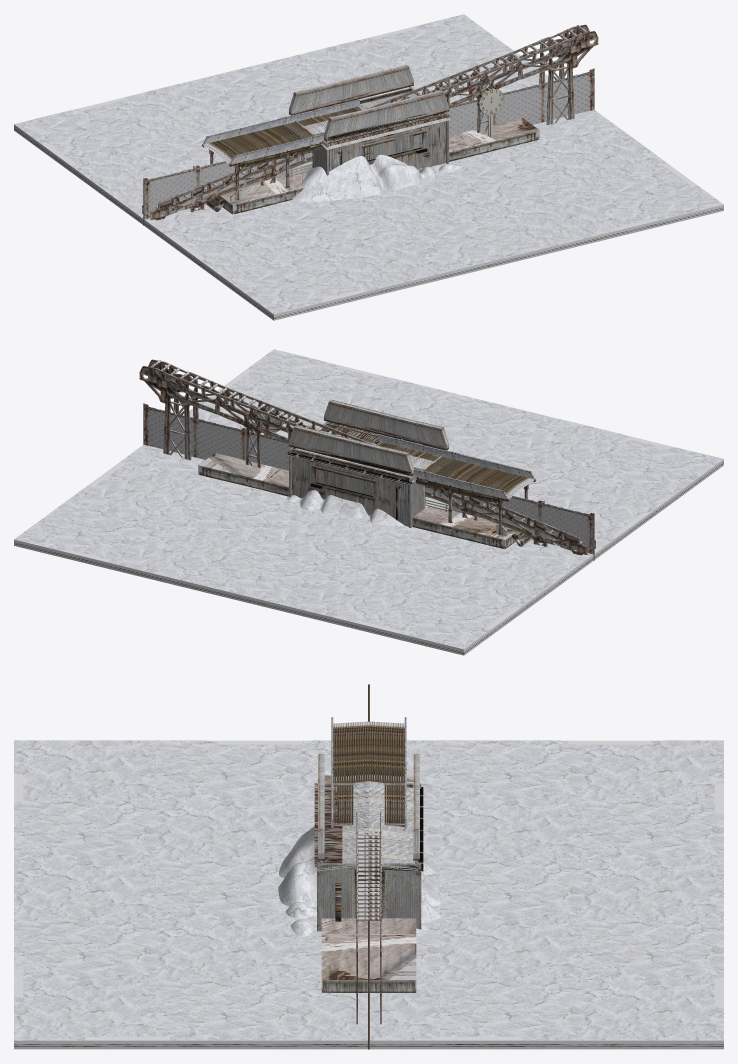
File: whites.glb
3 views of the same model, one above another, from view 1: azimuth 30°, elevation 25°; view 2: azimuth 150°, elevation 25°; view 3: azimuth 270°, elevation 25° (orthographic). The views are drawn at different scales.
Parts seen in each view (by area): view 1: salt-pan-crust, works-platform, dead-conveyor, school-hut, vane-fence, salt-pan, salt-heap, canteen, pay-office; view 2: salt-pan-crust, works-platform, dead-conveyor, school-hut, vane-fence, salt-pan, canteen, pay-office, salt-heap; view 3: salt-pan-crust, works-platform, salt-pan, school-hut, canteen, salt-heap, dead-conveyor, pay-office.
Boxes of the visible parts, x1,y1,x2,y2 form: salt-pan-crust: (14, 14, 723, 313); works-platform: (202, 87, 539, 214); dead-conveyor: (142, 24, 598, 220); school-hut: (289, 64, 450, 171); vane-fence: (143, 68, 594, 225); salt-pan: (14, 26, 723, 320); salt-heap: (292, 154, 462, 202); canteen: (289, 82, 450, 175); pay-office: (312, 81, 448, 174); salt-pan-crust: (14, 349, 723, 649); works-platform: (198, 405, 535, 549); dead-conveyor: (139, 359, 595, 555); school-hut: (287, 399, 448, 527); vane-fence: (143, 403, 594, 560); salt-pan: (14, 365, 723, 655); canteen: (287, 417, 448, 527); pay-office: (289, 416, 440, 526); salt-heap: (287, 490, 427, 525); salt-pan-crust: (14, 740, 723, 1040); works-platform: (321, 717, 416, 992); salt-pan: (14, 740, 723, 1049); school-hut: (314, 754, 422, 930); canteen: (314, 783, 423, 931); salt-heap: (278, 826, 442, 936); dead-conveyor: (356, 812, 381, 1024); pay-office: (317, 784, 421, 918).
Bounding box in the file's own units: 30.08 × 5.95 × 30.
Materials: 18 (14 with a texture image).
